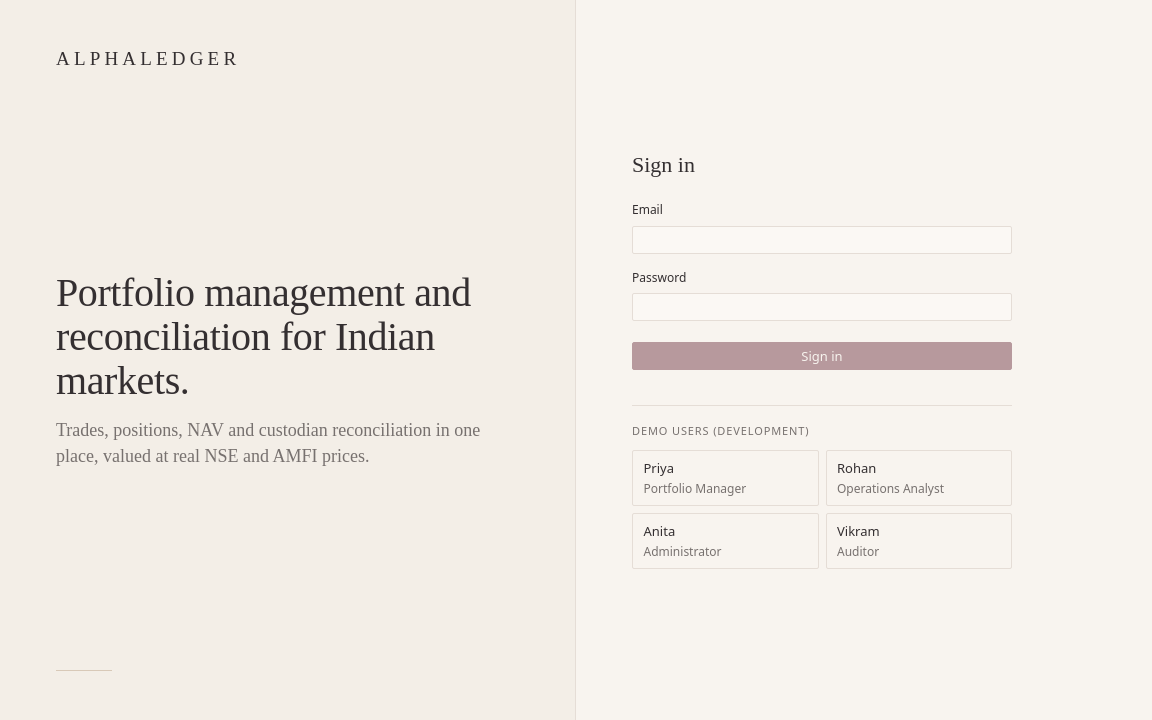
Test: sign-in and the browser session › shows a clear message for wrong credentials
Type "priya.pm@alphaledger.test" into the field labelled "Email" at point(822, 240), box [632,226,1012,254]
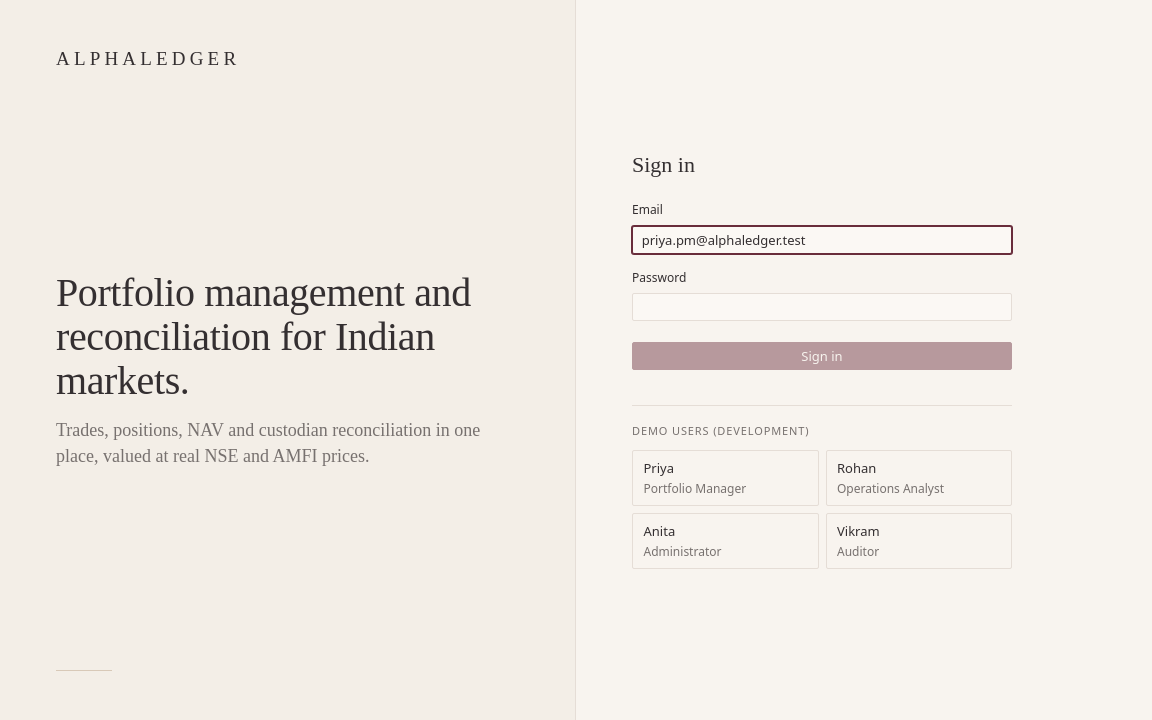
Type "wrong-password" into the password field labelled "Password" at point(822, 307), box [632,293,1012,321]
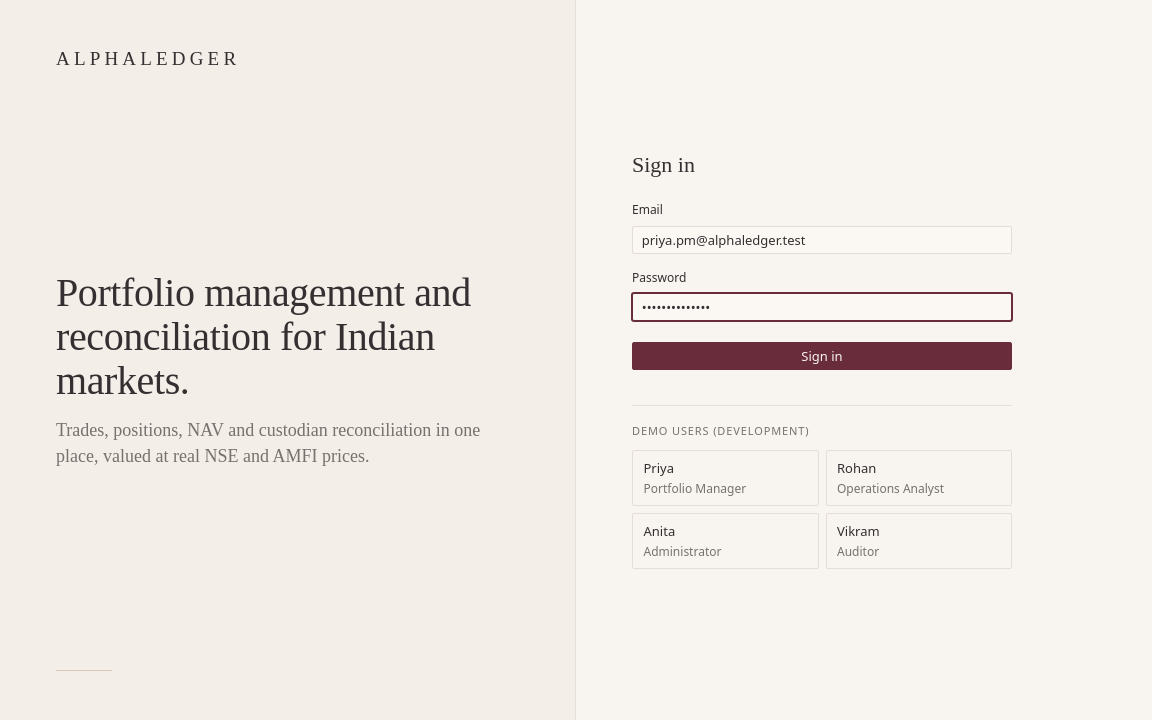
Click the button "Sign in" at point(822, 356), box [632,342,1012,370]
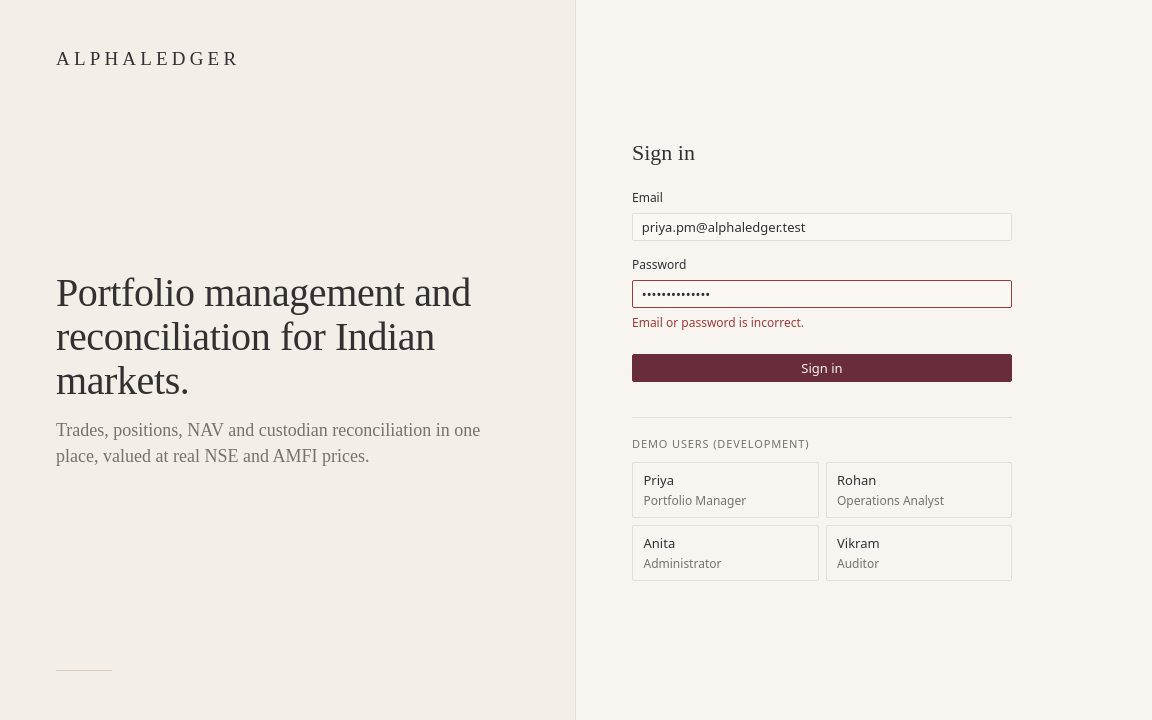
Now the text "Email or password is incorrect." is shown, box [632,314,804,331]
